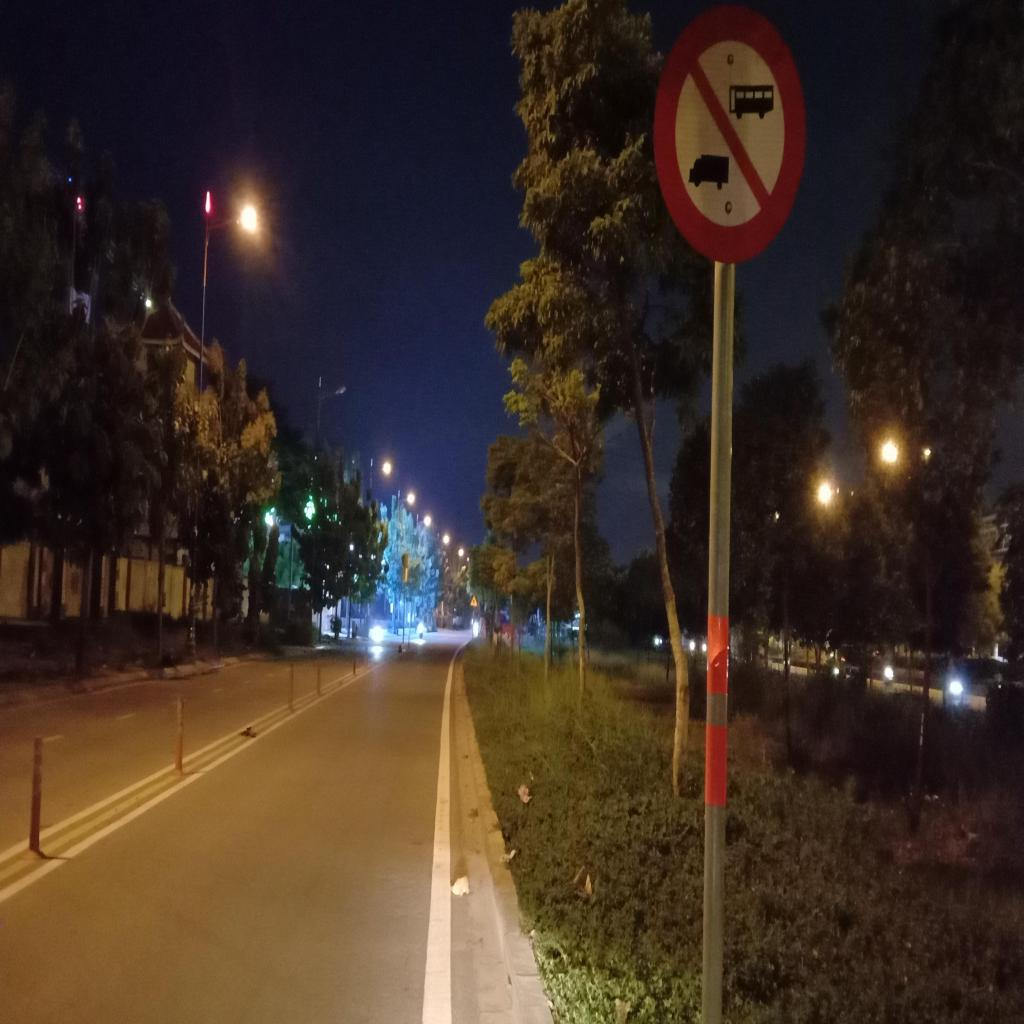cam_o_to_tai_va_xe_khach: (655, 4, 805, 266)
